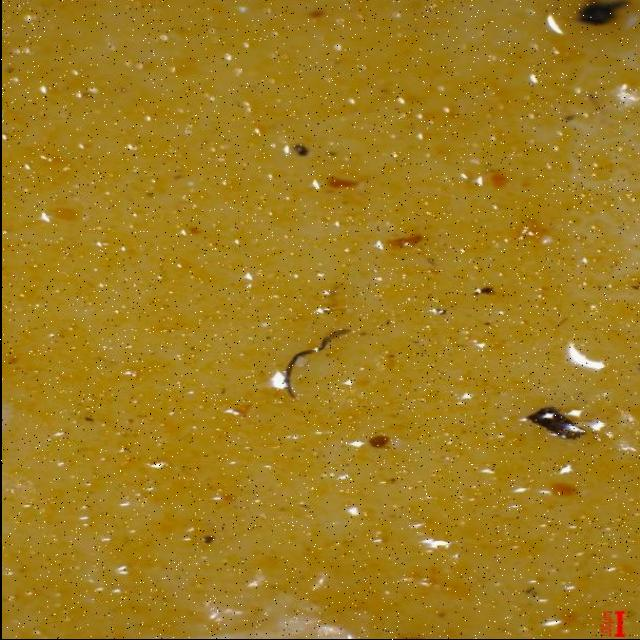Fibre: (280, 328, 358, 398)
